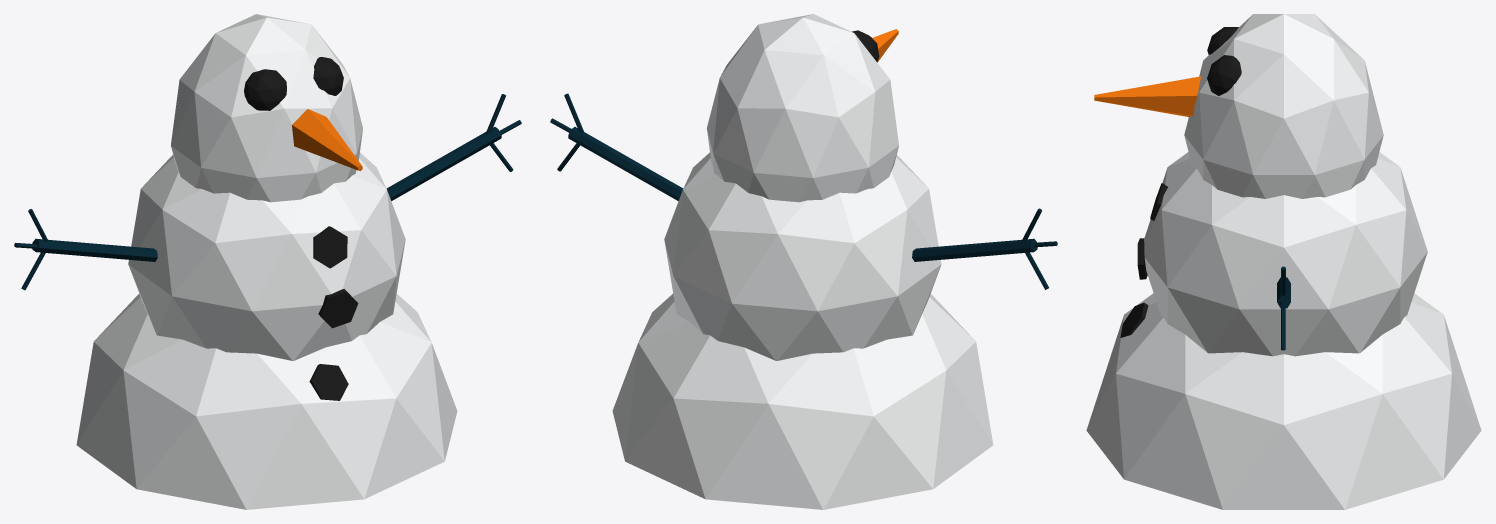
File: Mesh_Snowman.glb
3 views of the same model, side by side, from view 1: azimuth 30°, elevation 25°; view 2: azimuth 150°, elevation 25°; view 3: azimuth 270°, elevation 25° (orthographic).
Visible parts, largest first — view 1: Mesh_Snowman; view 2: Mesh_Snowman; view 3: Mesh_Snowman.
Boxes of the visible parts, box(x1,y1,x2,y2) form: Mesh_Snowman: box(14, 14, 521, 509); Mesh_Snowman: box(550, 14, 1057, 509); Mesh_Snowman: box(1086, 14, 1481, 509).
Bounding box in the file's own units: 1.07 × 0.8308 × 0.7142.
1 material, 1 textured.
